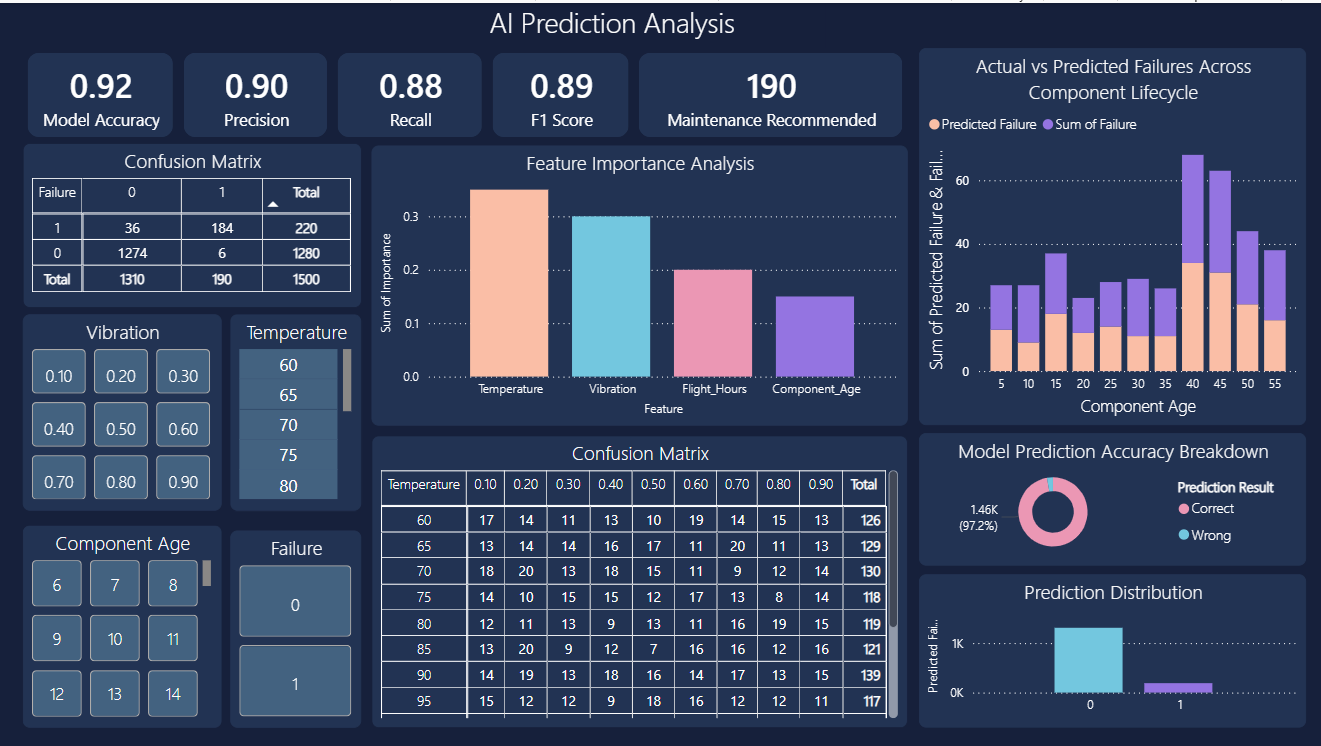

The dashboard page shown, as its layout file describes it:
{"tool":"powerbi","page":{"name":"Page 3","canvas":[1280,720],"ordinal":2},"visuals":[{"type":"textbox","title":"AI Prediction Analysis","box":[386.1,0,411.4,43.4],"z":0},{"type":"cardVisual","fields":{"Data":["maintenance_powerbi (2).Model Accuracy"]},"box":[22.9,43.4,150.8,91.7],"z":1000},{"type":"cardVisual","fields":{"Data":["maintenance_powerbi (2).Precision"]},"box":[173.7,43.4,148.4,91.7],"z":2000},{"type":"cardVisual","fields":{"Data":["maintenance_powerbi (2).Recall"]},"box":[322.1,43.4,149.6,91.7],"z":3000},{"type":"cardVisual","fields":{"Data":["maintenance_powerbi (2).F1 Score"]},"box":[471.7,43.4,141.2,91.7],"z":4000},{"type":"pivotTable","title":"Confusion Matrix","fields":{"Rows":["maintenance_powerbi (2).Failure"],"Columns":["maintenance_powerbi (2).Predicted_Failure"],"Values":["CountNonNull(maintenance_powerbi (2).Failure)"]},"box":[22.9,135.1,326.9,159.3],"z":5000},{"type":"clusteredColumnChart","title":"Feature Importance Analysis","fields":{"Category":["Table (2).Feature"],"Y":["Sum(Table (2).Importance)"]},"box":[359.5,137.5,517.6,270.2],"z":6000},{"type":"listSlicer","title":"Temperature","fields":{"Values":["maintenance_powerbi (2).Temperature (bins)"]},"box":[223.2,300.4,126.7,189.4],"z":7000},{"type":"advancedSlicerVisual","title":"Component Age","fields":{"Values":["maintenance_powerbi (2).Component_Age"]},"box":[22.9,504.3,191.8,195.4],"z":8000},{"type":"advancedSlicerVisual","title":"Vibration","fields":{"Values":["maintenance_powerbi (2).Vibration (bins)"]},"box":[22.9,300.4,191.8,189.4],"z":9000},{"type":"columnChart","title":"Actual vs Predicted Failures Across Component Lifecycle","fields":{"Y":["Sum(maintenance_powerbi (2).Predicted_Failure)","Sum(maintenance_powerbi (2).Failure)"],"Category":["maintenance_powerbi (2).Component_Age (bins)"]},"box":[887.9,43.4,374,364.3],"z":10000},{"type":"columnChart","title":"Prediction Distribution","fields":{"Y":["CountNonNull(maintenance_powerbi (2).Predicted_Failure)"],"Category":["maintenance_powerbi (2).Predicted_Failure"]},"box":[887.9,551.3,374,148.4],"z":11000},{"type":"donutChart","title":"Model Prediction Accuracy Breakdown","fields":{"Category":["maintenance_powerbi (2).Prediction_Result"],"Y":["CountNonNull(maintenance_powerbi (2).Prediction_Result)"]},"box":[887.9,415,374,127.9],"z":12000},{"type":"pivotTable","title":"Confusion Matrix","fields":{"Rows":["maintenance_powerbi (2).Temperature (bins)"],"Columns":["maintenance_powerbi (2).Vibration (bins)"],"Values":["CountNonNull(maintenance_powerbi (2).Predicted_Failure)"]},"box":[359.5,417.4,517.6,282.3],"z":13000},{"type":"cardVisual","fields":{"Data":["maintenance_powerbi (2).Maintenance Recommended"]},"box":[612.9,43.4,264.2,91.7],"z":14000},{"type":"advancedSlicerVisual","title":"Failure","fields":{"Values":["maintenance_powerbi (2).Failure"]},"box":[223.2,509.1,126.7,190.6],"z":15000}]}

Visuals, with their boxes in screenshot pixels (x1, y1, x2, y2), scaled from the page's 1280x720 canvas onto the 1321x746 screenshot:
"AI Prediction Analysis" textbox: [398, 0, 823, 45]
cardVisual - maintenance_powerbi (2).Model Accuracy: [24, 45, 179, 140]
cardVisual - maintenance_powerbi (2).Precision: [179, 45, 332, 140]
cardVisual - maintenance_powerbi (2).Recall: [332, 45, 487, 140]
cardVisual - maintenance_powerbi (2).F1 Score: [487, 45, 633, 140]
"Confusion Matrix" pivotTable: [24, 140, 361, 305]
"Feature Importance Analysis" clusteredColumnChart: [371, 142, 905, 422]
"Temperature" listSlicer: [230, 311, 361, 507]
"Component Age" advancedSlicerVisual: [24, 523, 222, 725]
"Vibration" advancedSlicerVisual: [24, 311, 222, 507]
"Actual vs Predicted Failures Across Component Lifecycle" columnChart: [916, 45, 1302, 422]
"Prediction Distribution" columnChart: [916, 571, 1302, 725]
"Model Prediction Accuracy Breakdown" donutChart: [916, 430, 1302, 563]
"Confusion Matrix" pivotTable: [371, 432, 905, 725]
cardVisual - maintenance_powerbi (2).Maintenance Recommended: [633, 45, 905, 140]
"Failure" advancedSlicerVisual: [230, 527, 361, 725]
